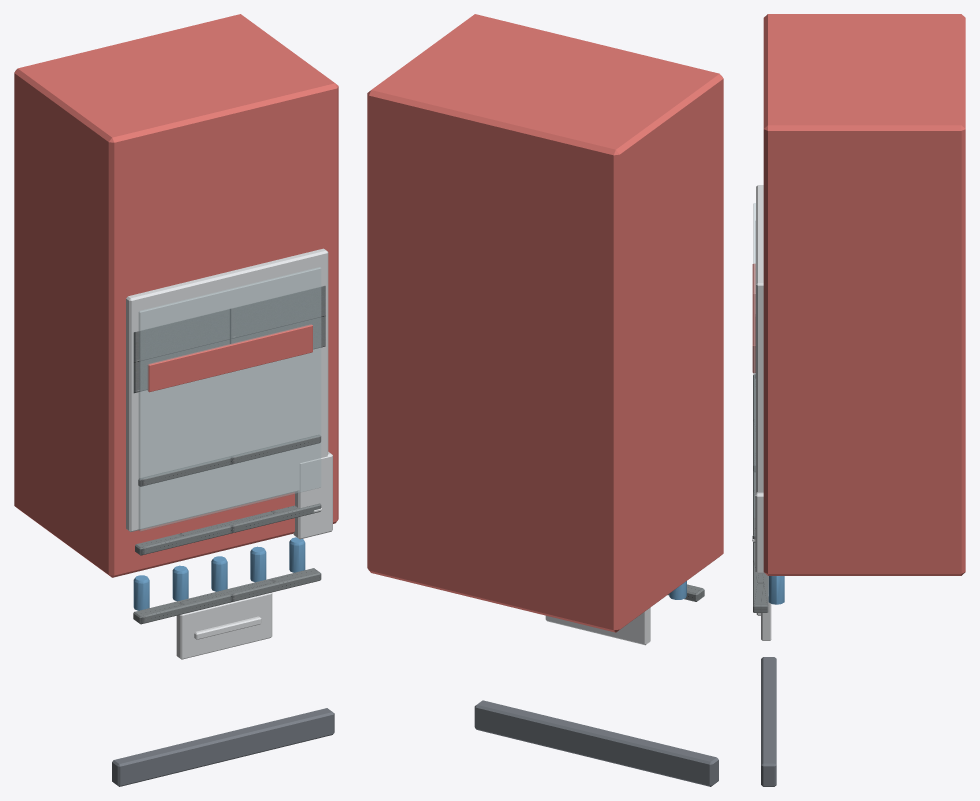
File: drinks-vending-machine.glb
The picture shows the model from 3 angles, left to right: view 1: azimuth 30°, elevation 25°; view 2: azimuth 150°, elevation 25°; view 3: azimuth 270°, elevation 25°; orthographic projection. The views are drawn at different scales.
Visible parts, largest first — view 1: vending-machine, vend-flap; view 2: vending-machine, vend-flap; view 3: vending-machine, vend-flap.
Part boxes in pixels (x1=…): vending-machine: x1=14, y1=14, x2=338, y2=786; vend-flap: x1=176, y1=592, x2=272, y2=659; vending-machine: x1=367, y1=14, x2=723, y2=786; vend-flap: x1=545, y1=607, x2=650, y2=645; vending-machine: x1=752, y1=14, x2=965, y2=786; vend-flap: x1=756, y1=576, x2=771, y2=640.
Size of the model in its own units: 1.05 by 2.83 by 0.824.
6 materials, 1 textured.
